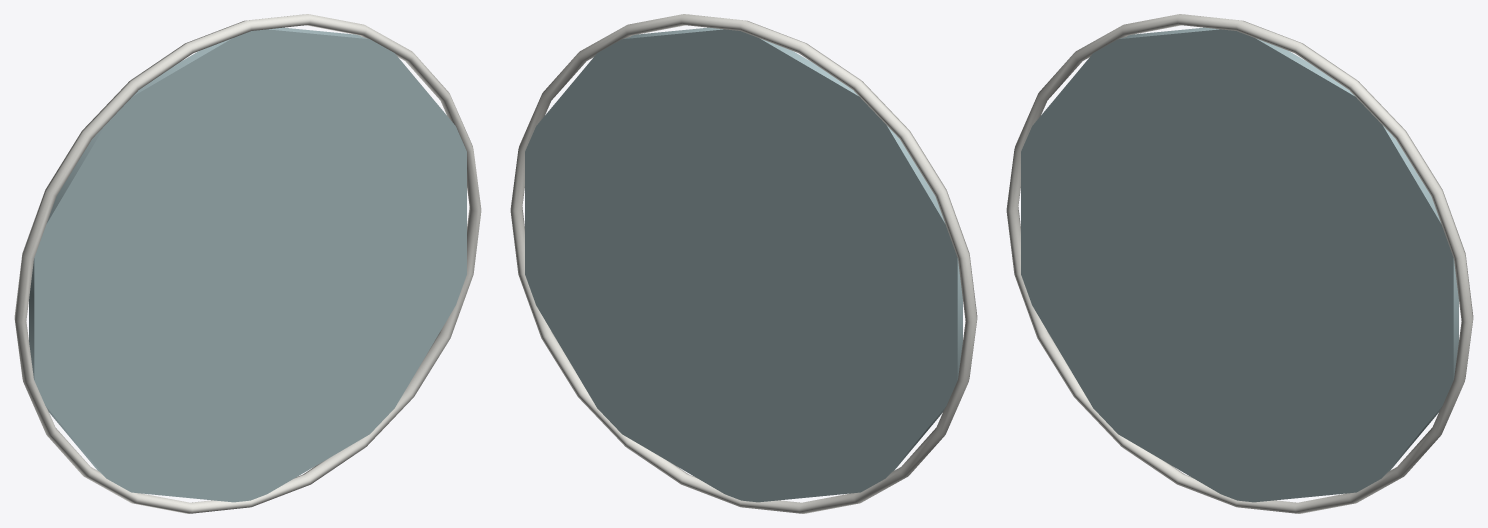
Rendered from lindbyn-mobile.glb.
3 renders of one model, left to right at view 1: azimuth 30°, elevation 25°; view 2: azimuth 150°, elevation 25°; view 3: azimuth 330°, elevation 25°, orthographic.
Visible parts, largest first — view 1: LINDBYN Round mirror, 80 cm; view 2: LINDBYN Round mirror, 80 cm; view 3: LINDBYN Round mirror, 80 cm.
Boxes of the visible parts, left/top/right/bottom form: LINDBYN Round mirror, 80 cm: left=14, top=14, right=481, bottom=513; LINDBYN Round mirror, 80 cm: left=510, top=14, right=977, bottom=513; LINDBYN Round mirror, 80 cm: left=1006, top=14, right=1473, bottom=513.
Bounding box in the file's own units: 0.8 × 0.8 × 0.02.
Materials: 2 (1 with a texture image).
